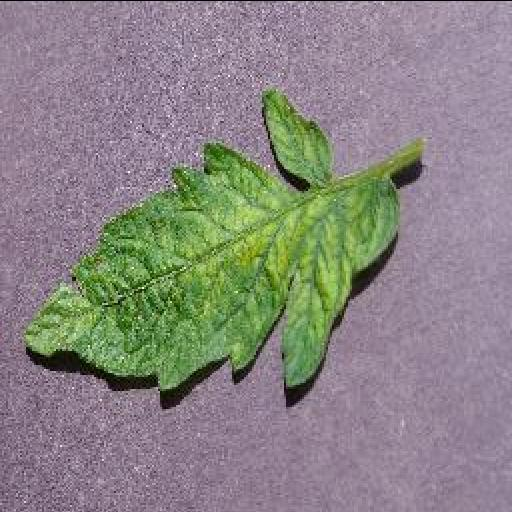Mosaic Virus: (12, 86, 398, 398)
